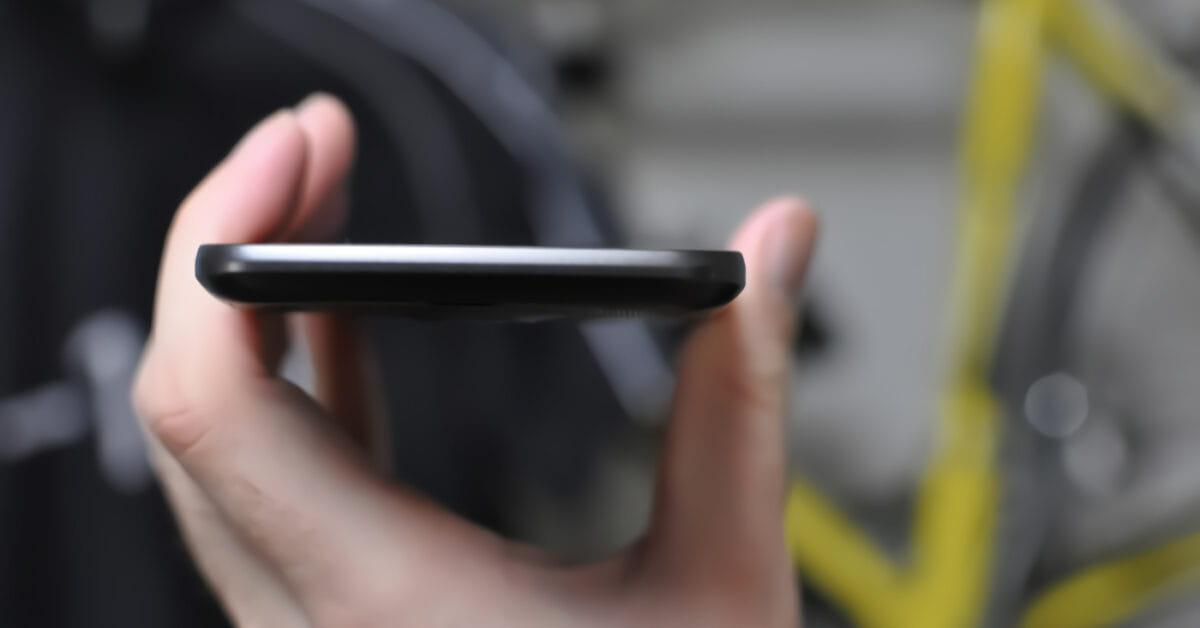Hand: (156, 105, 834, 628)
Smartphone: (197, 229, 758, 357)
